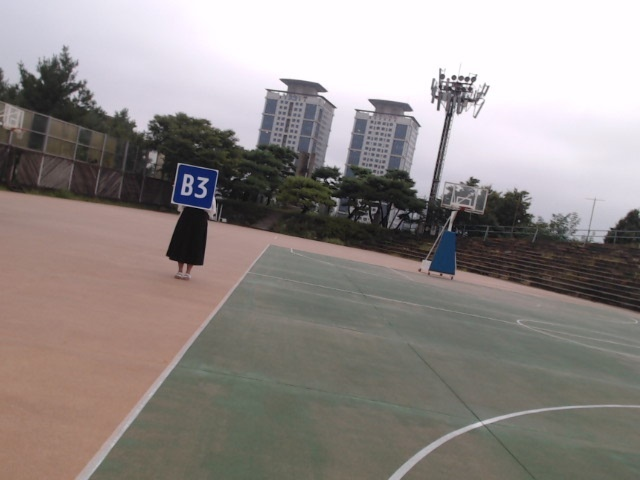delivery_b3: (172, 163, 219, 209)
